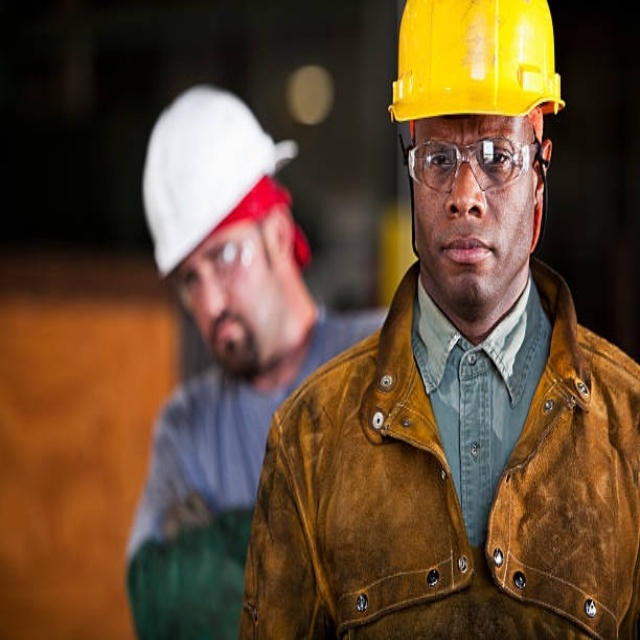Gafas: (407, 133, 540, 196), (173, 216, 253, 309)
Sin_mascara: (433, 227, 508, 298), (201, 304, 261, 365)
